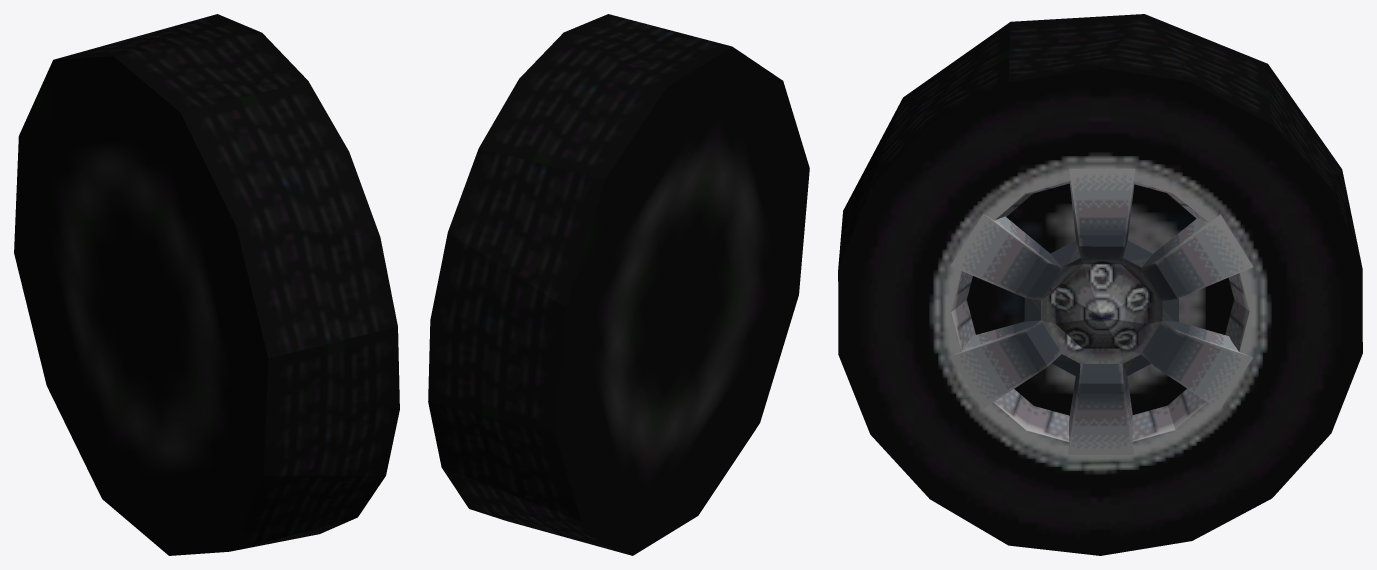
File: ford_escape_wheel.dae
3 renders of one model, left to right at view 1: azimuth 30°, elevation 25°; view 2: azimuth 150°, elevation 25°; view 3: azimuth 270°, elevation 25°, orthographic.
Visible parts, largest first — view 1: DrawCall10_3; view 2: DrawCall10_3; view 3: DrawCall10_3, DrawCall14_3, DrawCall_8_3, DrawCall12_3.
Part boxes in pixels (x1,y1,x2,y2): DrawCall10_3: [14, 14, 399, 555]; DrawCall10_3: [428, 14, 809, 555]; DrawCall10_3: [838, 14, 1362, 555]; DrawCall14_3: [950, 168, 1253, 454]; DrawCall_8_3: [967, 183, 1233, 415]; DrawCall12_3: [951, 181, 1249, 442].
Size of the model in its own units: 9.2 by 28.7 by 29.12.
1 material, 1 textured.
